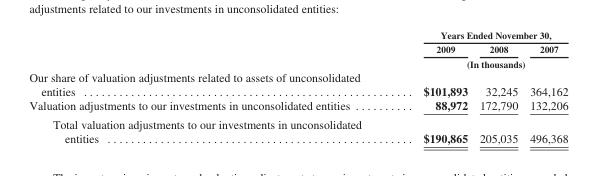table: (28, 29, 567, 144)
table column: (28, 29, 391, 144), (391, 29, 473, 144), (473, 29, 523, 144), (523, 29, 567, 144)
table column header: (28, 29, 567, 69)
table row: (28, 114, 567, 144), (28, 69, 567, 97), (28, 97, 567, 114), (28, 41, 567, 56), (28, 56, 567, 69), (28, 29, 567, 41)
table spanning cell: (391, 56, 567, 69), (391, 29, 567, 41)
